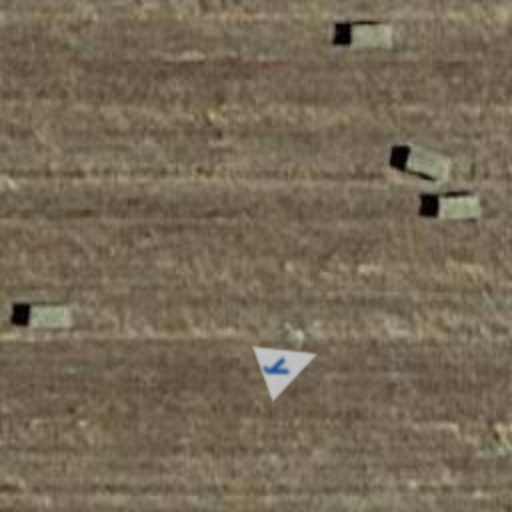triangle: (252, 326, 328, 402)
